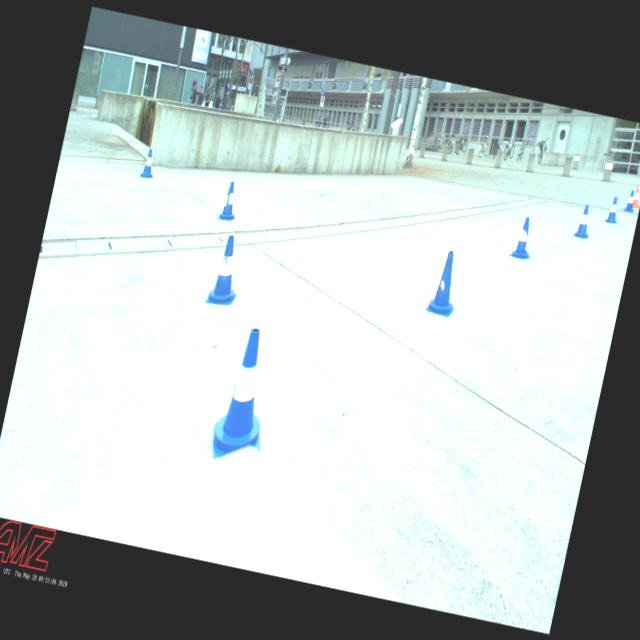blue_cone: (206, 323, 284, 468), (204, 232, 248, 308), (425, 248, 465, 318), (508, 215, 538, 261), (216, 180, 242, 222), (572, 202, 596, 240), (138, 148, 160, 180), (604, 195, 622, 224), (623, 190, 637, 212)
orange_cone: (631, 186, 640, 208)
